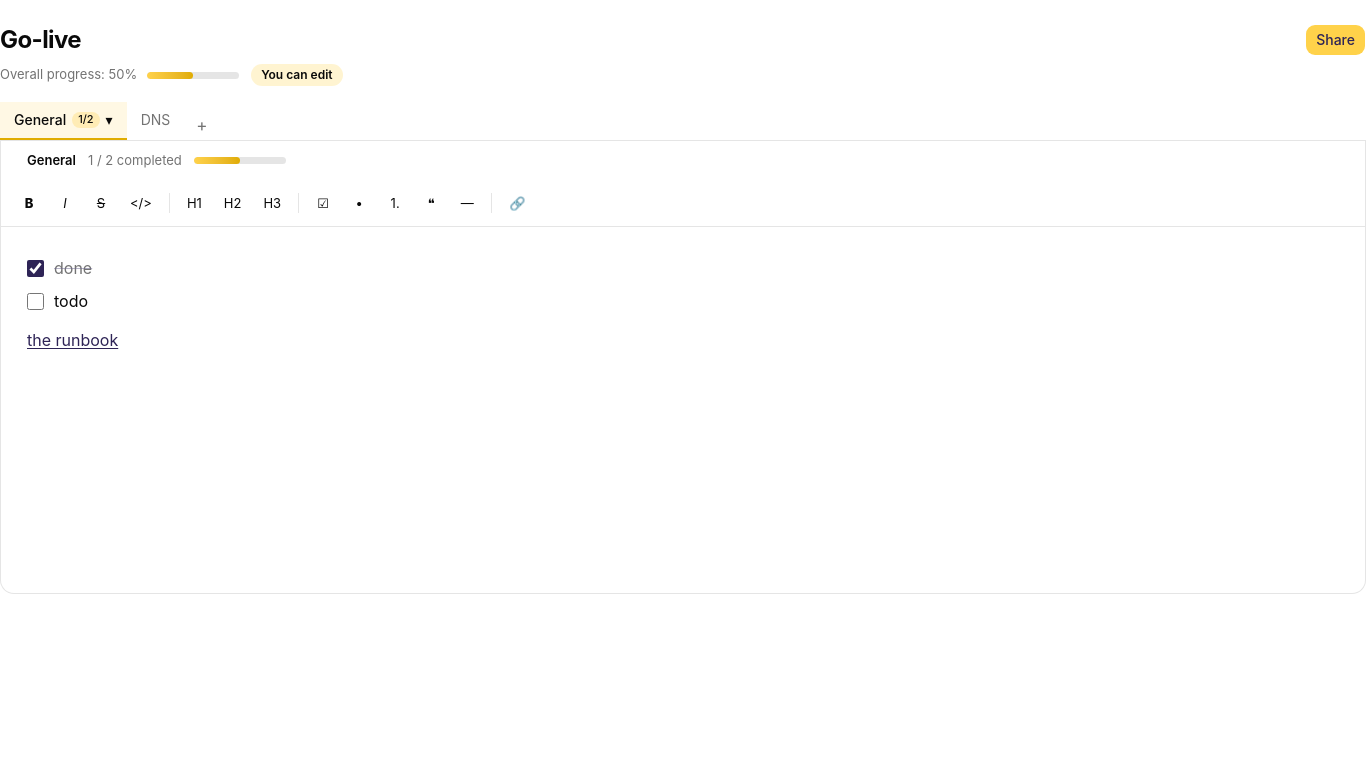
Share, in exactly the form capabilities() allows › gives a task-scoped manage link a create-only Share that never asks for the list
The width and height of the screenshot is (1366, 768).
Step 1. Click the button "Share" → (1336, 40), box [1305,24,1365,56]
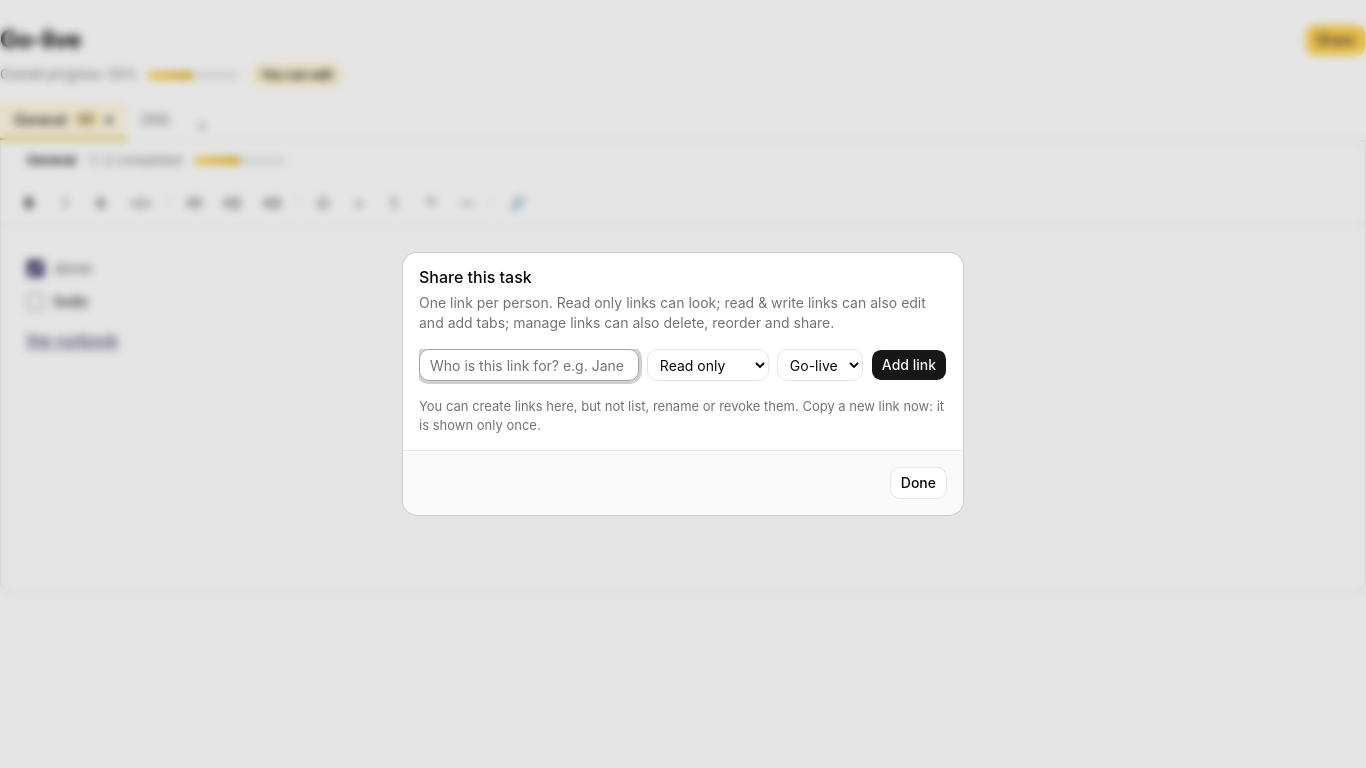
Result: the button "Add link" is shown at [871,349,947,381]
Result: the text "You can create links here, but not list, rename or revoke them" is shown at [419,398,944,432]
